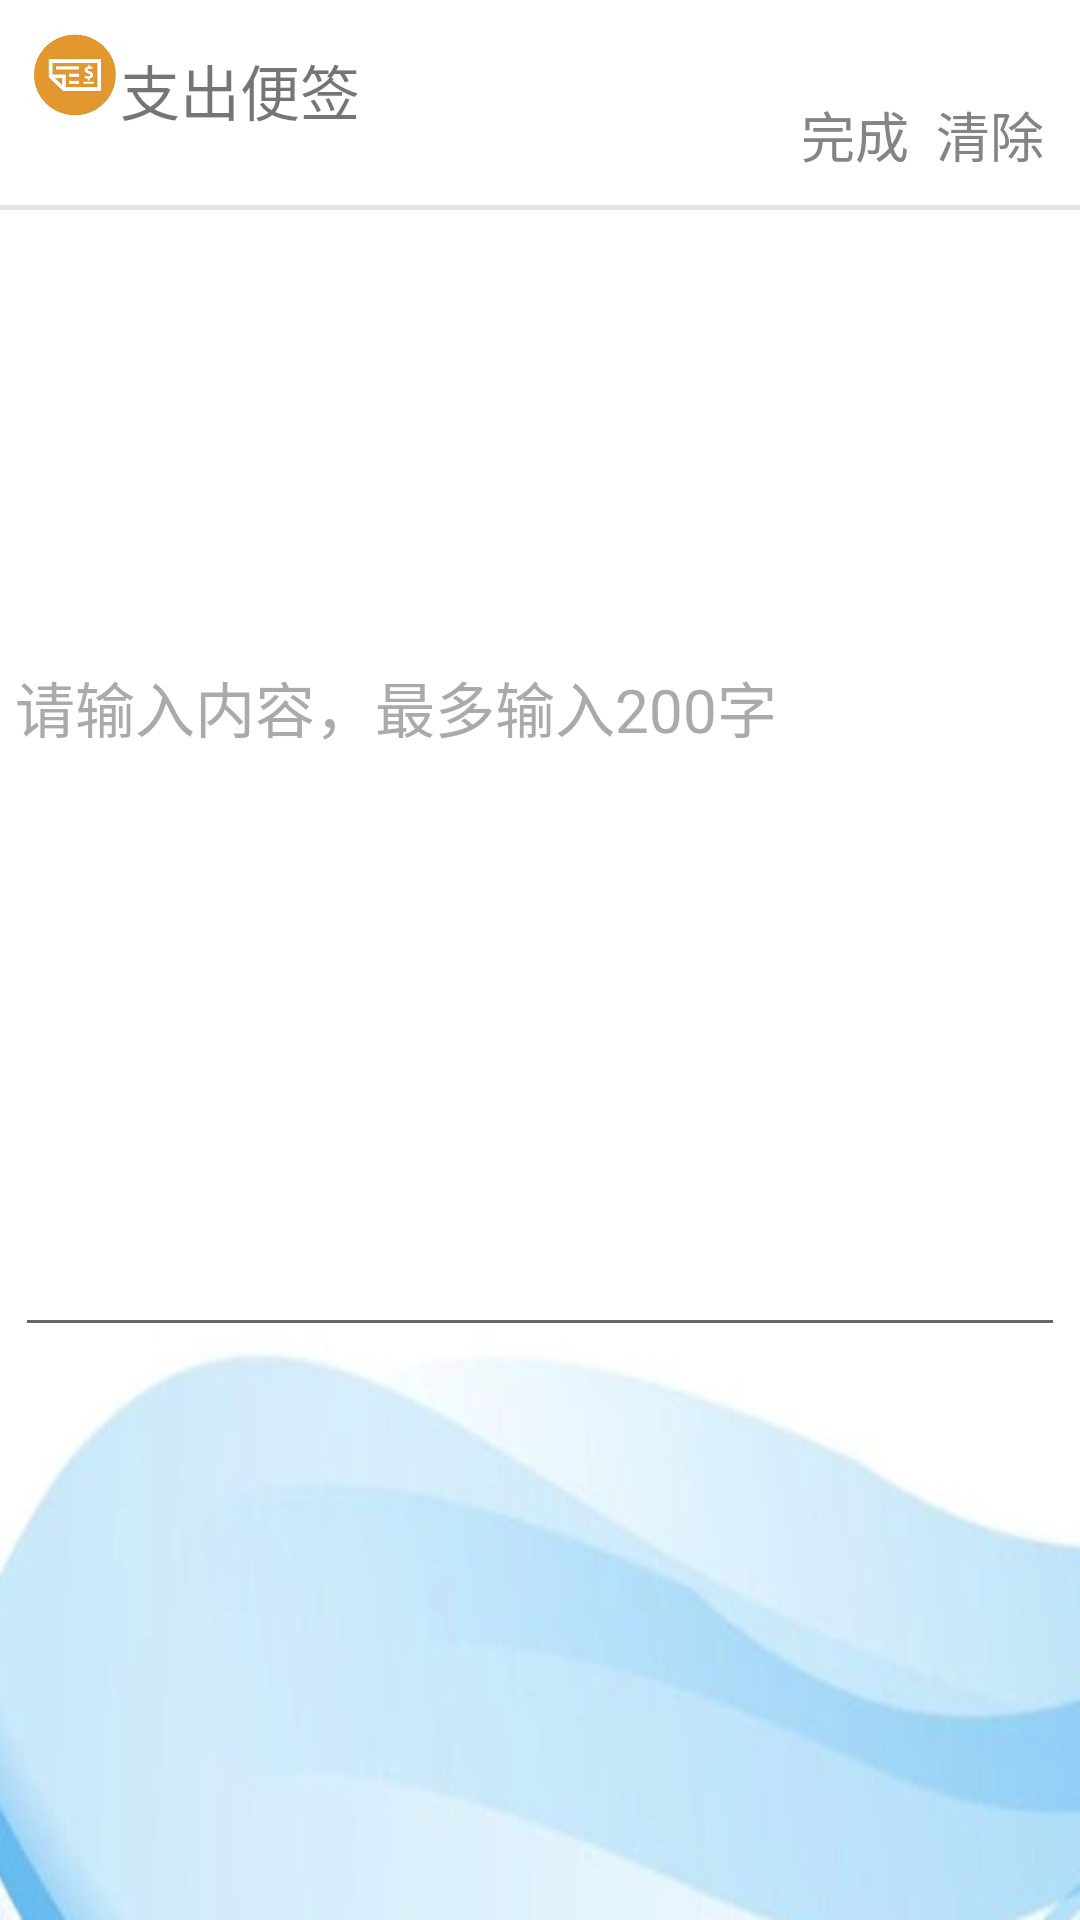

Locate icon controls on the screen. Image size 1080 × 1920, boxes as (x1, y1, x2, y2).
shouzhibianqian: (34, 34, 116, 115)
